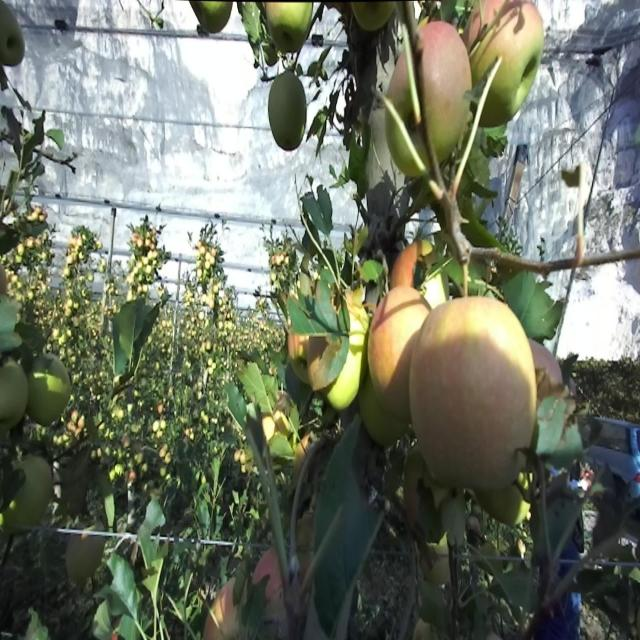apple: (364, 262, 430, 393), (420, 20, 471, 119), (496, 6, 545, 84), (360, 376, 408, 450), (484, 51, 527, 133), (12, 454, 55, 532), (468, 6, 503, 91), (268, 77, 307, 153), (388, 115, 431, 183), (388, 49, 422, 133), (28, 369, 72, 427), (476, 479, 523, 532), (268, 0, 313, 55), (344, 291, 371, 372), (532, 340, 565, 404), (252, 554, 285, 615), (328, 348, 359, 412), (0, 362, 29, 430), (212, 582, 239, 638), (196, 0, 233, 39), (0, 20, 26, 71), (356, 0, 392, 36), (4, 497, 40, 533), (272, 120, 307, 156), (264, 404, 290, 446), (4, 497, 31, 532), (288, 333, 316, 363), (308, 355, 327, 396), (572, 234, 591, 270), (328, 0, 351, 20), (68, 412, 84, 436), (64, 298, 75, 320)
